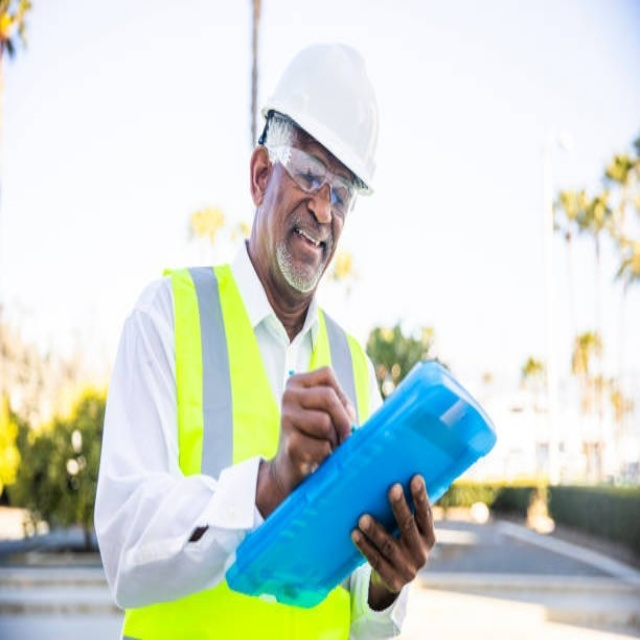Gafas: (266, 131, 364, 221)
Sin_guantes: (268, 367, 357, 505), (351, 471, 437, 597)
Sin_mascara: (280, 223, 327, 273)
